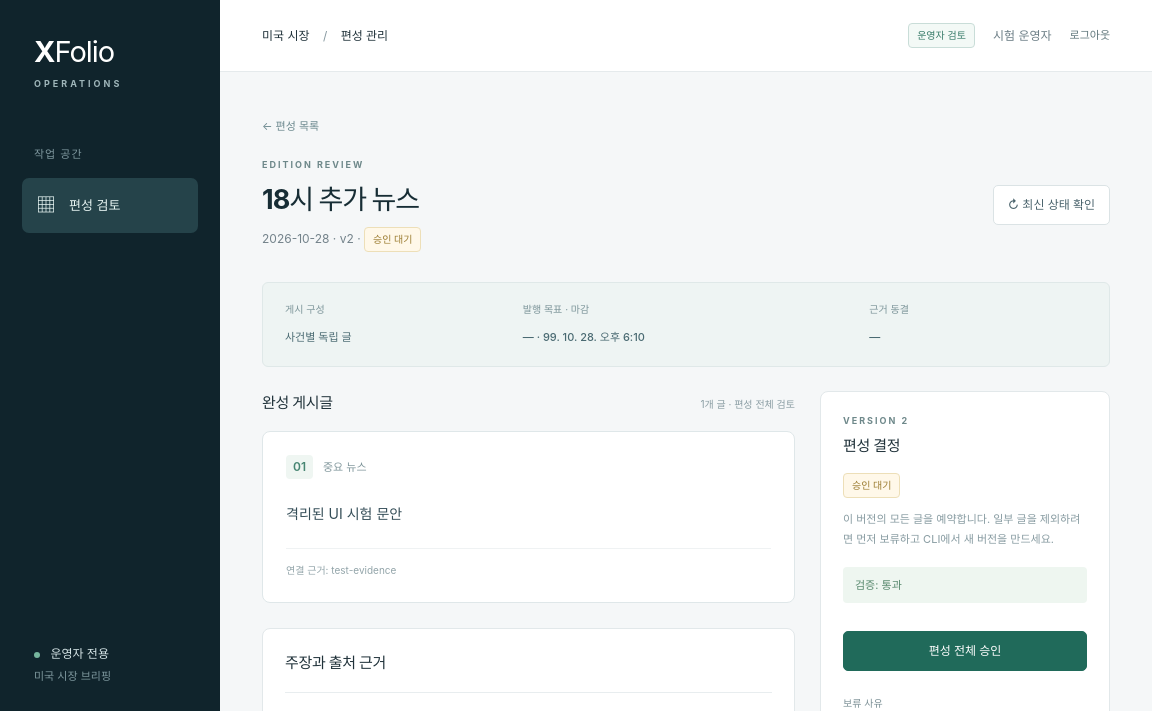
Test: 운영자 편성 검토 › 409 뒤 최신 버전만 재조회하며 자동으로 재승인하지 않는다
Click the button "편성 전체 승인".
click(965, 651)  # box x1=843 y1=631 x2=1087 y2=671
(page scrolled)
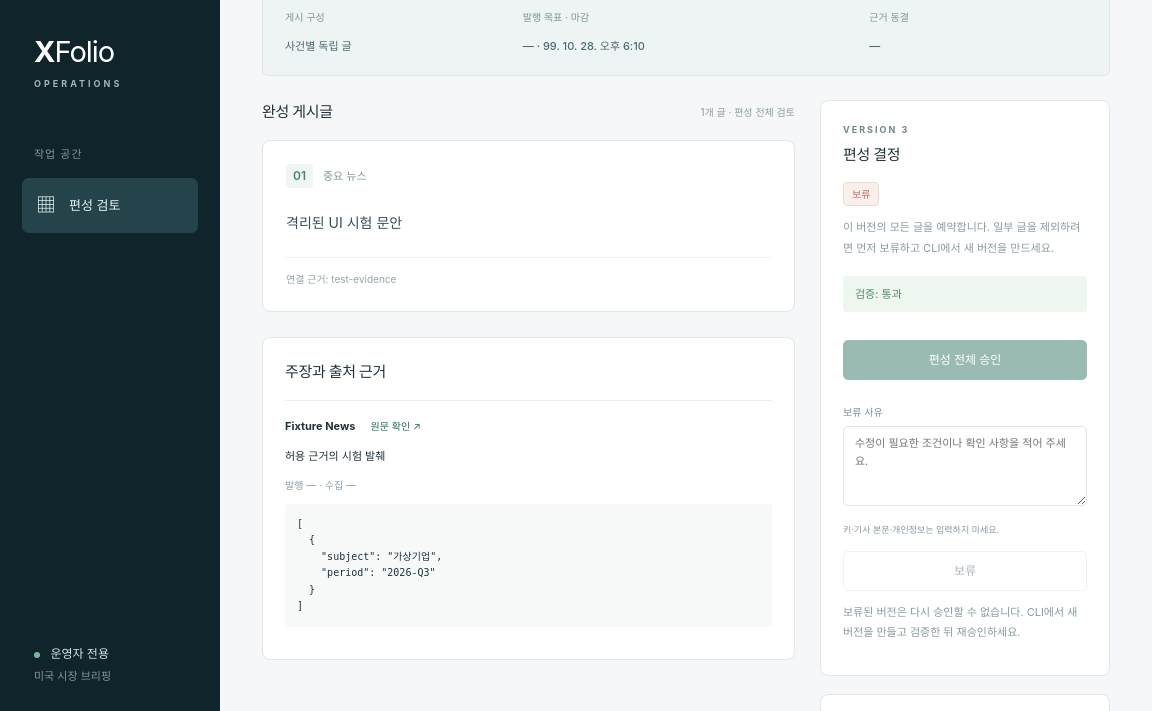
Now the button "편성 전체 승인" is disabled, box x1=843 y1=340 x2=1087 y2=380
